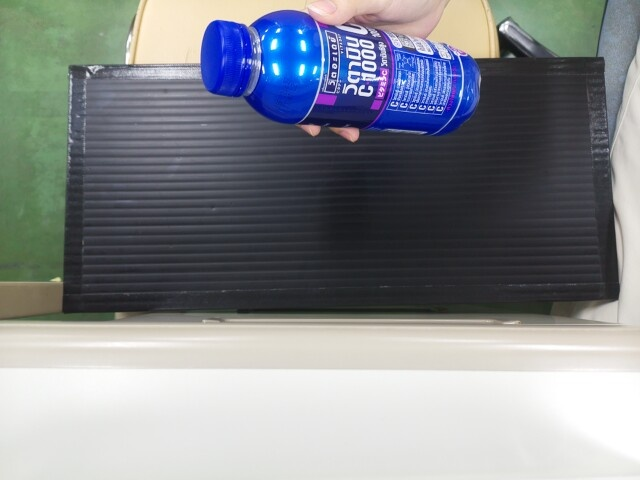plastic_bottle: (197, 10, 475, 129)
